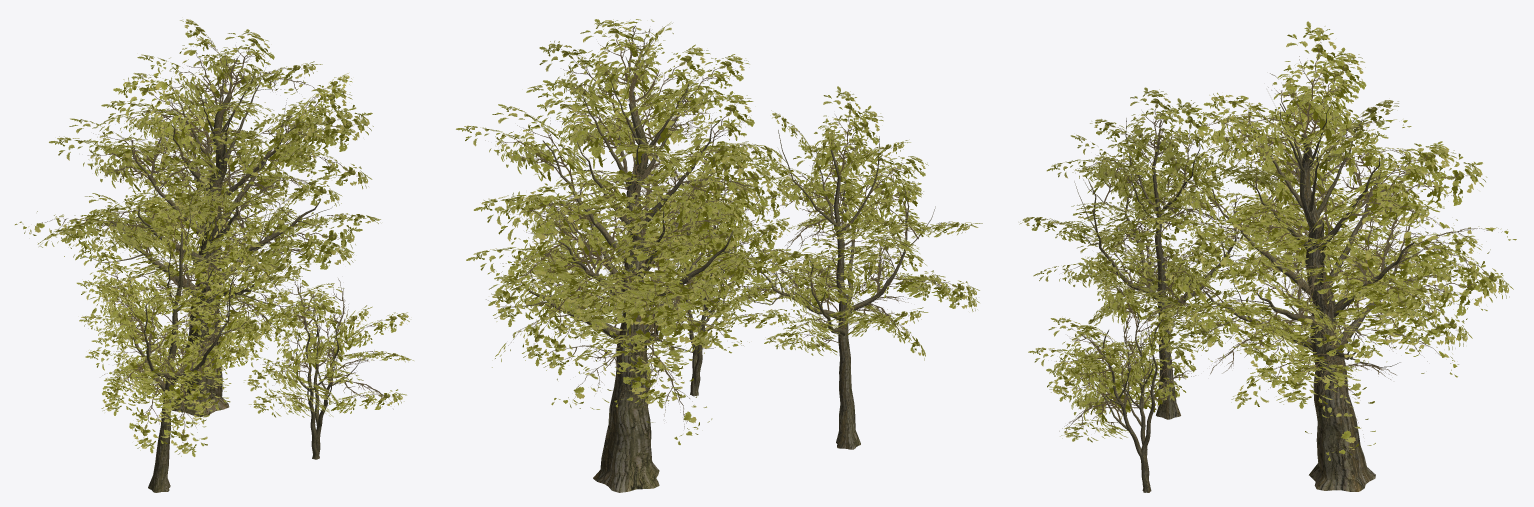
File: tree_leafy.glb
The picture shows the model from 3 angles, left to right: view 1: azimuth 30°, elevation 25°; view 2: azimuth 150°, elevation 25°; view 3: azimuth 270°, elevation 25°; orthographic projection. The views are drawn at different scales.
Visible parts, largest first — view 1: treelarge, Treemedium, leafplanes_4_23, leafplanes_4_7, leafplanes_4_39, leafplanes_10_3, Treesmall, leafplanes_4_13_2, leafplanes_3, leafplanes_4_13_3_40_2, leafplanes_4_55, leafplanes_4_13_3_67 (+74 smaller); view 2: treelarge, Treemedium, leafplanes_10_195, leafplanes_4_13, leafplanes_10_177, leafplanes_4_38, leafplanes_4_6, leafplanes_10_108, leafplanes_10_117, leafplanes_10_9, leafplanes_4_55, leafplanes_4_58 (+69 smaller); view 3: treelarge, Treemedium, leafplanes_4_13_3, Treesmall, leafplanes_4_60, leafplanes_4_13_1, leafplanes_4_52, leafplanes_10_93_1, leafplanes_4_41, leafplanes_10_78, leafplanes_10_114, leafplanes_4_37 (+76 smaller).
Part boxes in pixels (<box>): treelarge: <box>80,53,338,416</box>; Treemedium: <box>123,189,255,492</box>; leafplanes_4_23: <box>113,77,214,156</box>; leafplanes_4_7: <box>260,212,362,266</box>; leafplanes_4_39: <box>222,102,326,168</box>; leafplanes_10_3: <box>152,150,221,217</box>; Treesmall: <box>288,292,374,459</box>; leafplanes_4_13_2: <box>209,29,274,93</box>; leafplanes_3: <box>66,195,168,249</box>; leafplanes_4_13_3_40_2: <box>156,384,212,456</box>; leafplanes_4_55: <box>253,106,356,170</box>; leafplanes_4_13_3_67: <box>128,377,181,453</box>; treelarge: <box>486,56,760,492</box>; Treemedium: <box>740,130,935,449</box>; leafplanes_10_195: <box>616,325,692,408</box>; leafplanes_4_13: <box>580,19,661,99</box>; leafplanes_10_177: <box>493,243,578,326</box>; leafplanes_4_38: <box>631,271,731,353</box>; leafplanes_4_6: <box>494,191,611,287</box>; leafplanes_10_108: <box>598,165,675,236</box>; leafplanes_10_117: <box>522,277,607,366</box>; leafplanes_10_9: <box>663,148,750,232</box>; leafplanes_4_55: <box>538,78,635,171</box>; leafplanes_4_58: <box>492,104,587,189</box>; treelarge: <box>1174,87,1435,491</box>; Treemedium: <box>1074,118,1241,419</box>; leafplanes_4_13_3: <box>1273,21,1348,134</box>; Treesmall: <box>1087,311,1162,492</box>; leafplanes_4_60: <box>1343,144,1454,211</box>; leafplanes_4_13_1: <box>1288,47,1366,139</box>; leafplanes_4_52: <box>1365,153,1487,224</box>; leafplanes_10_93_1: <box>1203,92,1304,165</box>; leafplanes_4_41: <box>1389,261,1501,323</box>; leafplanes_10_78: <box>1231,232,1310,300</box>; leafplanes_10_114: <box>1196,207,1280,277</box>; leafplanes_4_37: <box>1275,355,1361,408</box>.
Size of the model in its own units: 8.68 by 9 by 9.15.
2 materials, 2 textured.
